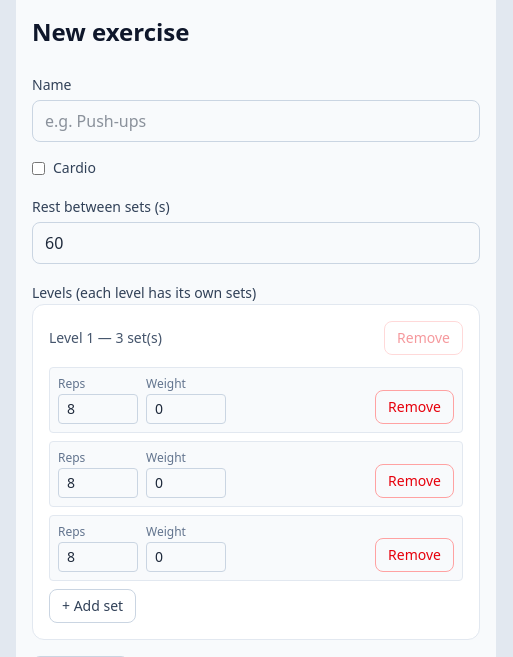
Test: ExerciseForm › shows rest error after blur when rest is 0
The width and height of the screenshot is (513, 657).
Clear the number field labelled "Rest between sets (s)" at (256, 243), box [32,222,480,264]
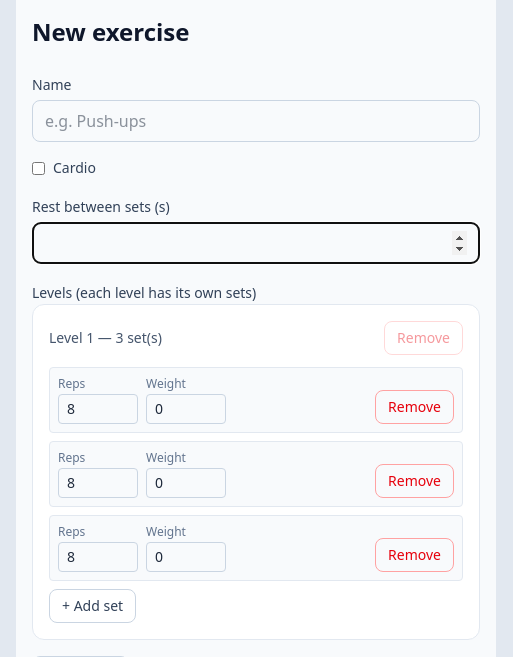
Press Tab
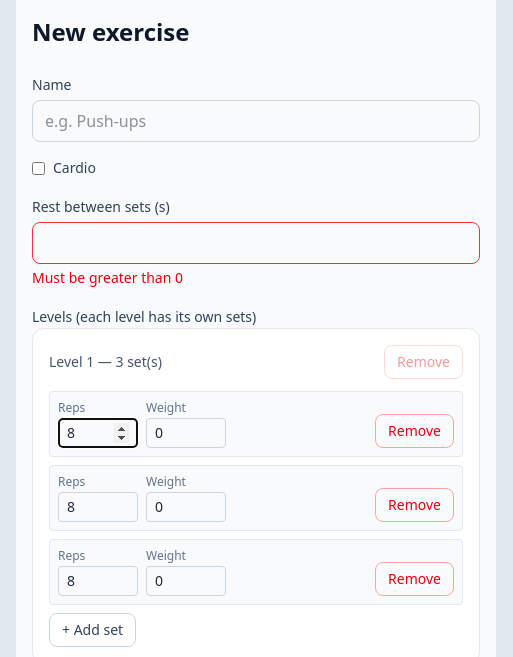
Expected: the message shows "greater than 0", [32,268,183,287]
